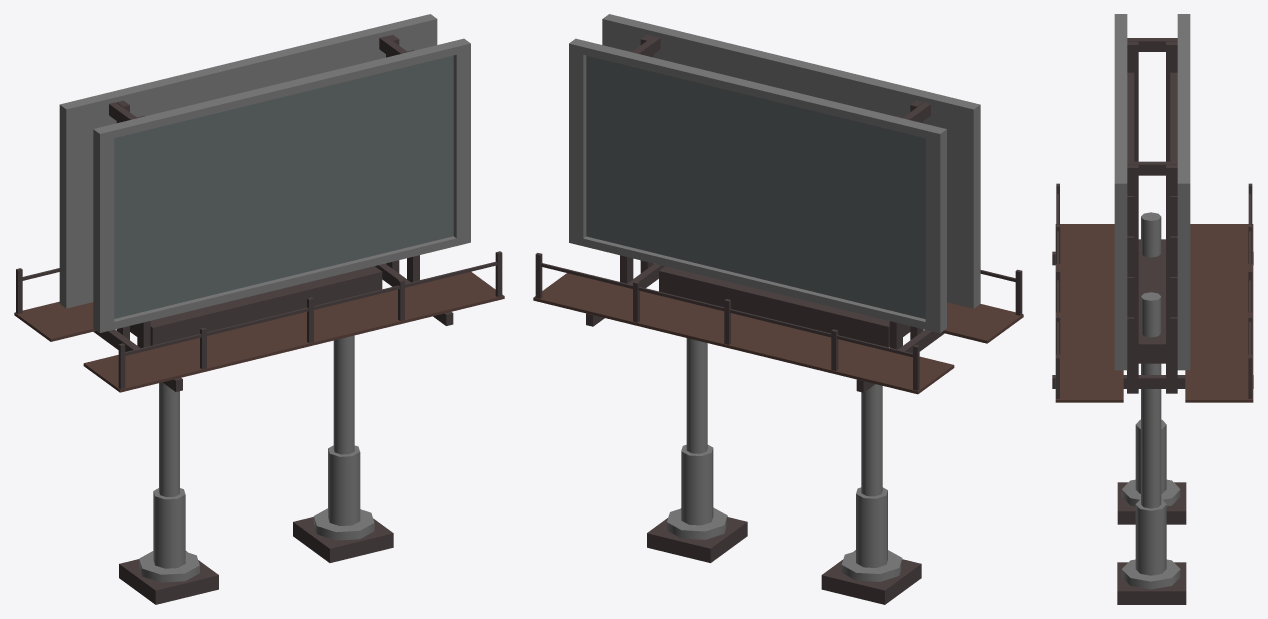
Rendered from SM_BillBoard_02.gltf.
3 views of the same model, side by side, from view 1: azimuth 30°, elevation 25°; view 2: azimuth 150°, elevation 25°; view 3: azimuth 270°, elevation 25° (orthographic). The views are drawn at different scales.
Visible parts, largest first — view 1: node-0; view 2: node-0; view 3: node-0.
Boxes of the visible parts, x1,y1,x2,y2 form: node-0: (14,14,504,604); node-0: (533,14,1023,604); node-0: (1052,14,1253,604).
Size of the model in its own units: 9.7 by 11.73 by 4.69.
